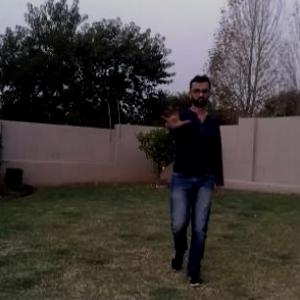follow_hand: (156, 101, 192, 132)
